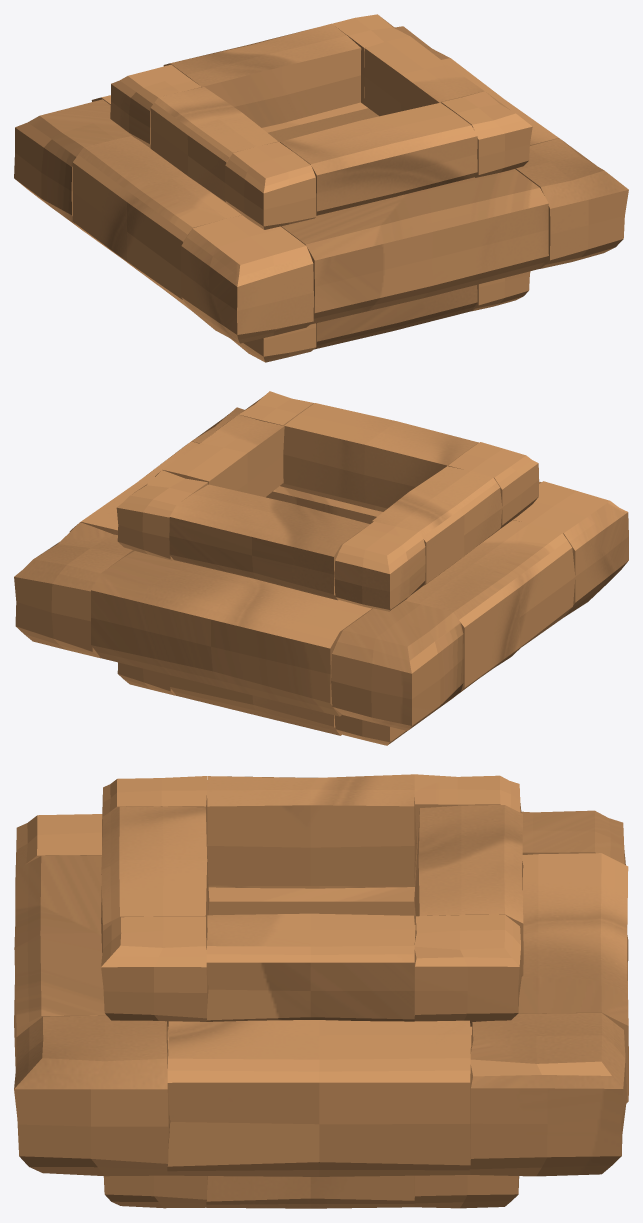
Rendered from Crystal_lamp_01.fbx.
The picture shows the model from 3 angles, top to bottom: view 1: azimuth 30°, elevation 25°; view 2: azimuth 150°, elevation 25°; view 3: azimuth 270°, elevation 25°; orthographic projection. The views are drawn at different scales.
Visible parts, largest first — view 1: Crystal2.002; view 2: Crystal2.002; view 3: Crystal2.002.
Boxes of the visible parts, left/top/right/bottom form: Crystal2.002: left=14, top=14, right=628, bottom=362; Crystal2.002: left=14, top=391, right=628, bottom=745; Crystal2.002: left=14, top=774, right=628, bottom=1208.
Size of the model in its own units: 106 by 48.92 by 102.
